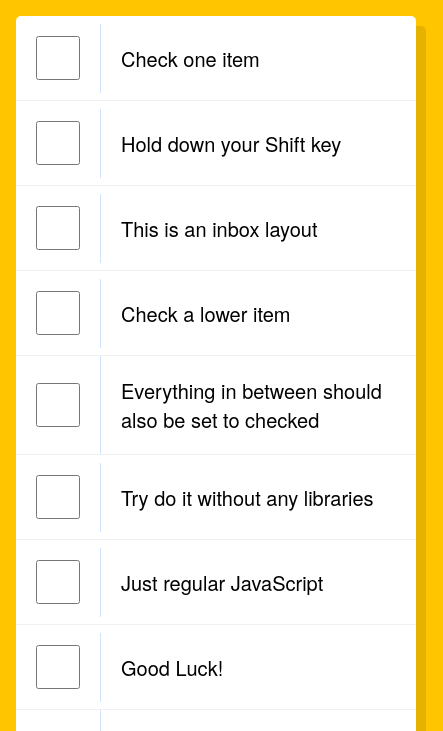
should check boxes in between when clicked with shift button
The width and height of the screenshot is (443, 731).
What coordinates should you click on to do the following:
click the checkbox with test id "checkbox-4"
I would click on:
 (58, 405)
Its box is [36,383,80,427].
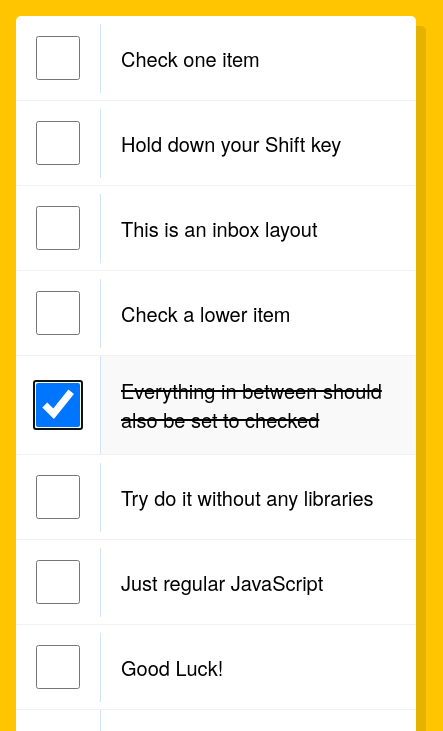
Now the checkbox with test id "checkbox-4" is checked, box [36,383,80,427]
What coordinates should you click on to do the following:
click the checkbox with test id "checkbox-6"
I would click on:
 (58, 582)
Its box is [36,560,80,604].
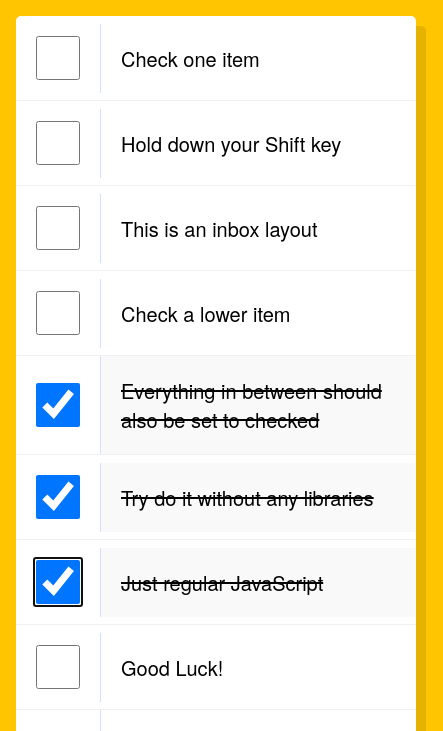
Now the checkbox with test id "checkbox-6" is checked, box [36,560,80,604]
Now the checkbox with test id "checkbox-5" is checked, box [36,475,80,519]
